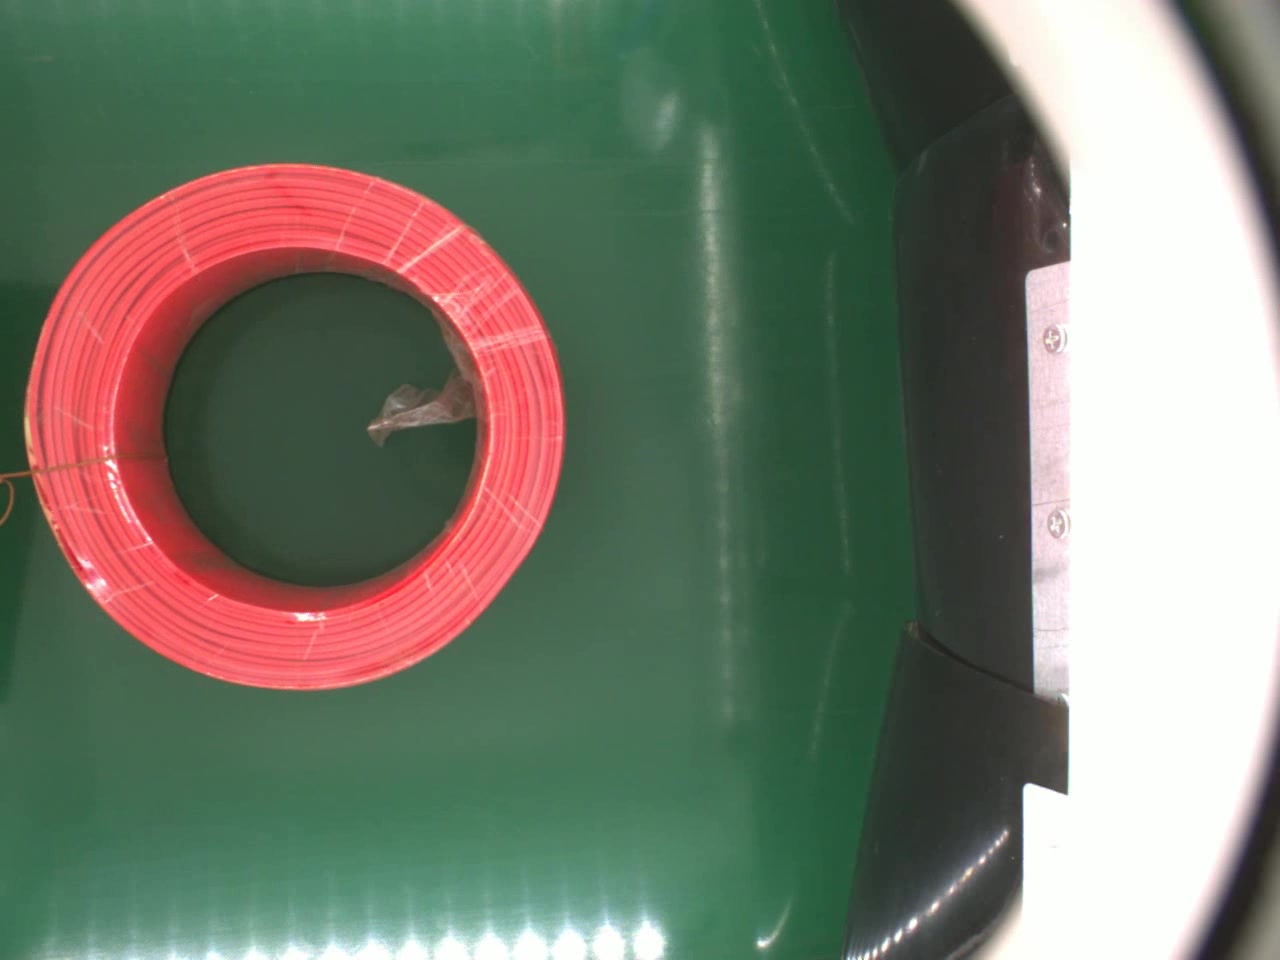red: (23, 159, 566, 697)
